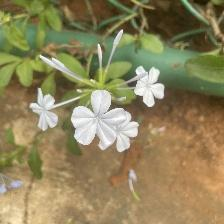chitrak: (69, 88, 137, 155), (131, 67, 169, 107), (31, 92, 62, 133)
